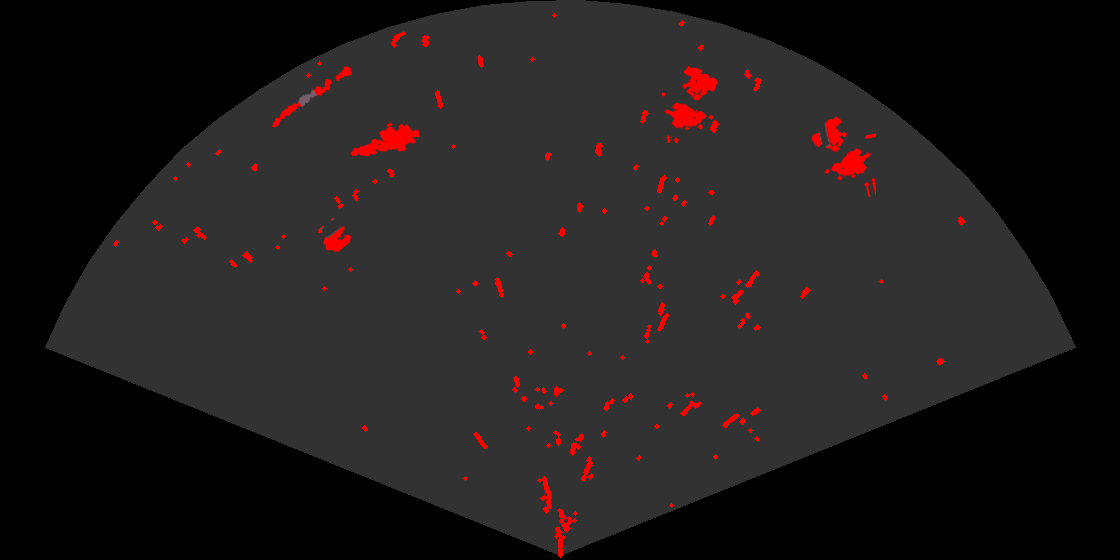ball: (316, 216, 353, 254)
cage: (810, 115, 876, 197), (662, 64, 720, 143)
chain: (270, 65, 354, 129)
frogman: (349, 121, 419, 158)
